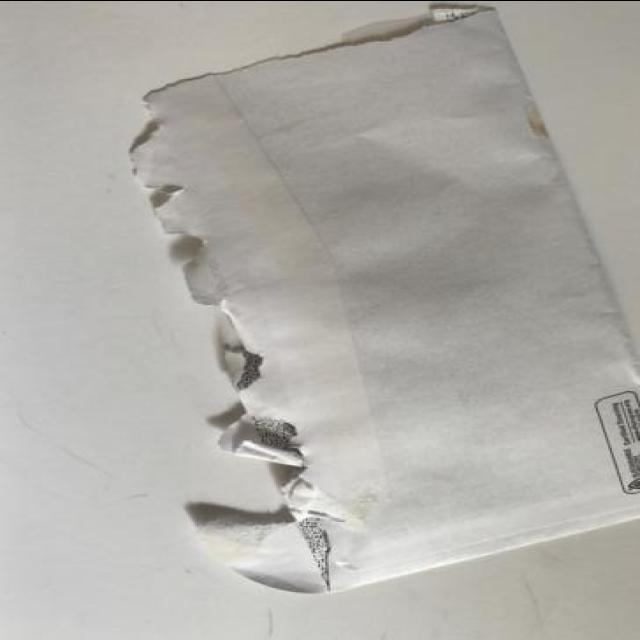kertas: (124, 3, 640, 594)
